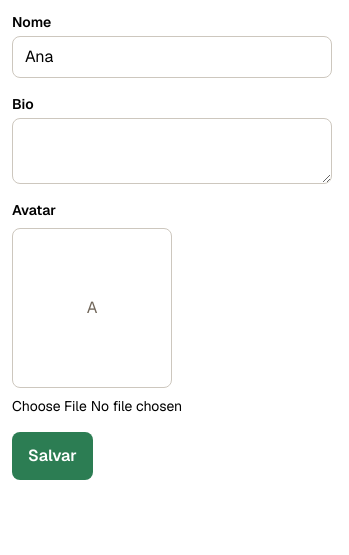
Test: AuthorForm › erro inesperado no submit: mostra mensagem genérica fixa
Step 1. Click the button "Salvar" → (52, 456), box [12,432,93,480]
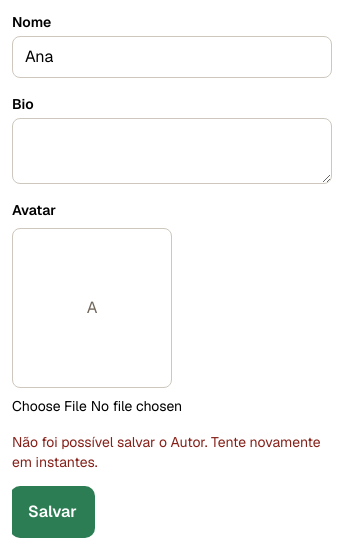
Now the text "Não foi possível salvar o Autor. Tente novamente em instantes." is shown, box [12,432,332,472]
